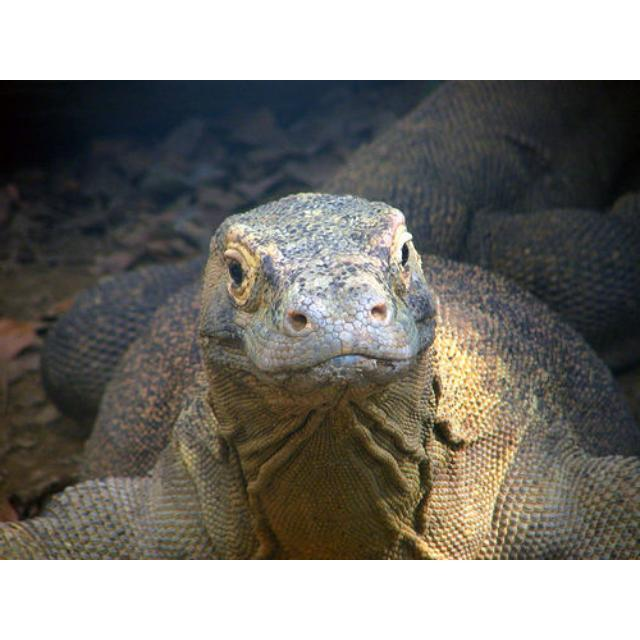KomodoDragon: (3, 81, 640, 558)
